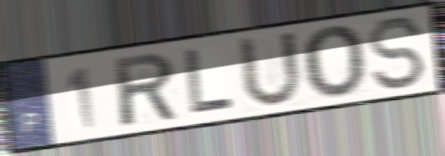1: (66, 64, 96, 130)
L: (183, 46, 236, 118)
O: (299, 23, 366, 102)
R: (110, 50, 180, 130)
S: (365, 15, 427, 92)
U: (236, 29, 305, 111)
